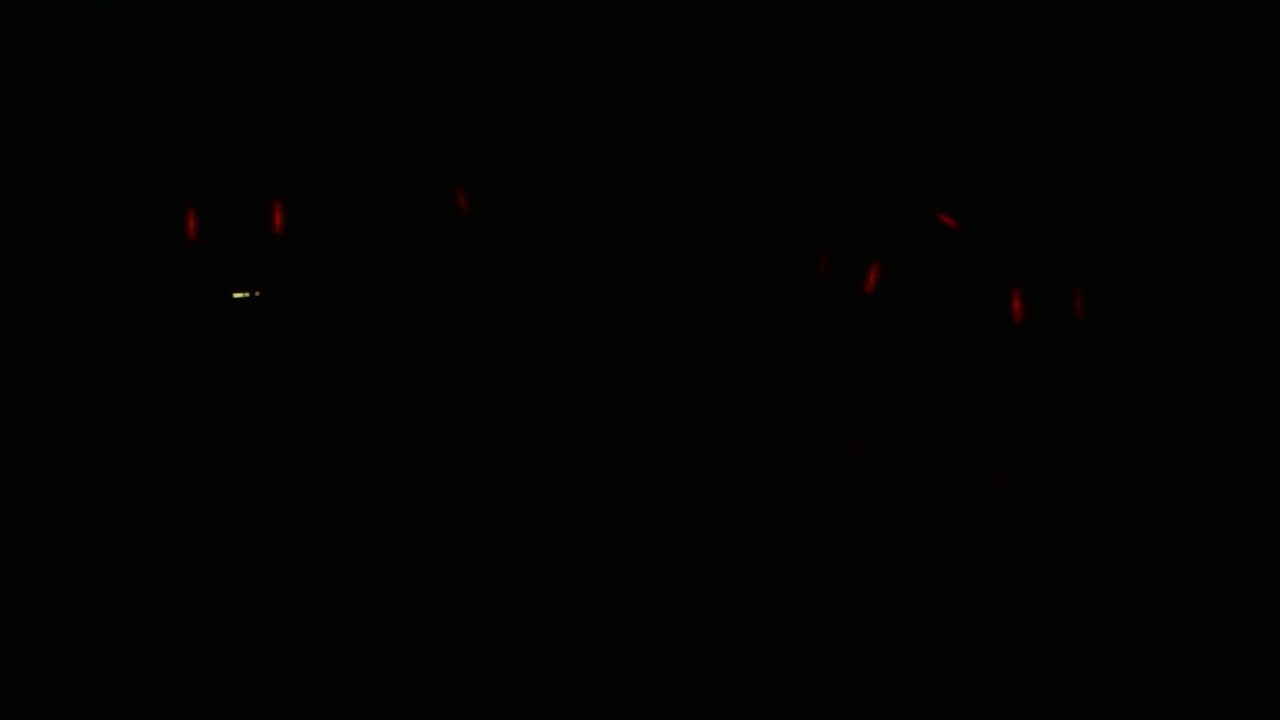pair1: (181, 198, 287, 247), (1003, 284, 1088, 326)
